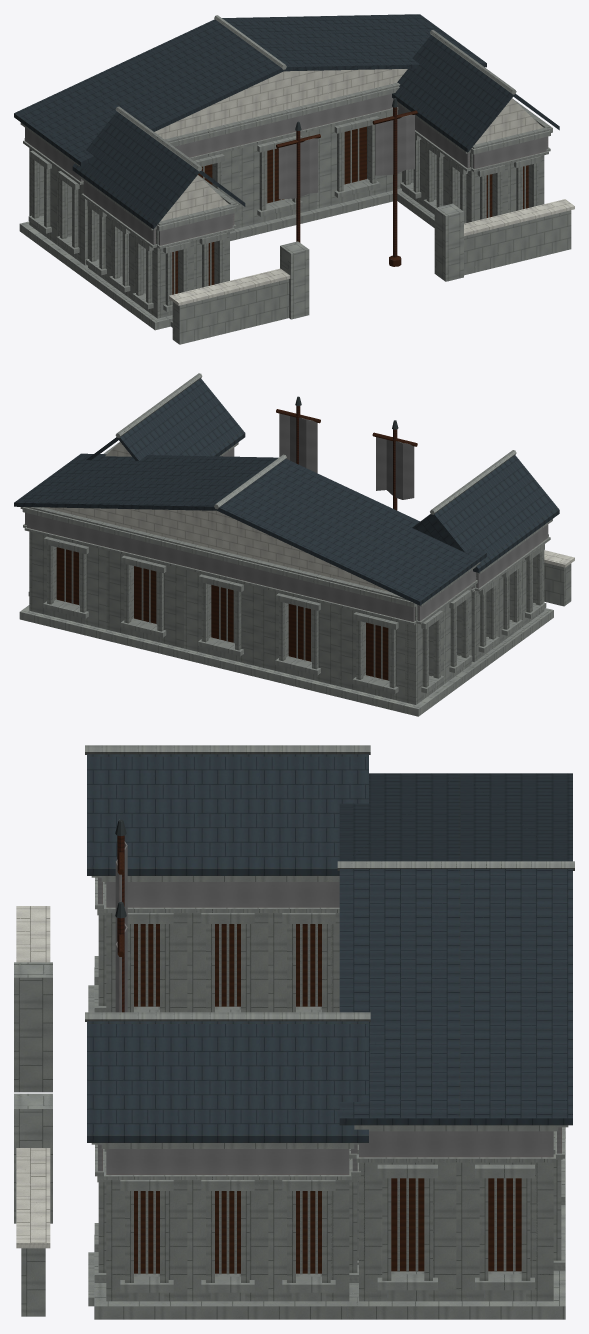
The model's file is drill_yard.glb.
3 views of the same model, one above another, from view 1: azimuth 30°, elevation 25°; view 2: azimuth 150°, elevation 25°; view 3: azimuth 270°, elevation 25° (orthographic). The views are drawn at different scales.
Visible parts, largest first — view 1: LOD0; view 2: LOD0; view 3: LOD0.
Boxes of the visible parts, x1,y1,x2,y2 form: LOD0: (14,14,574,344); LOD0: (14,373,574,716); LOD0: (14,745,574,1319).
Size of what is drawn, in the model's own units: 1.68 by 0.655 by 1.15.
2 materials, 2 textured.
